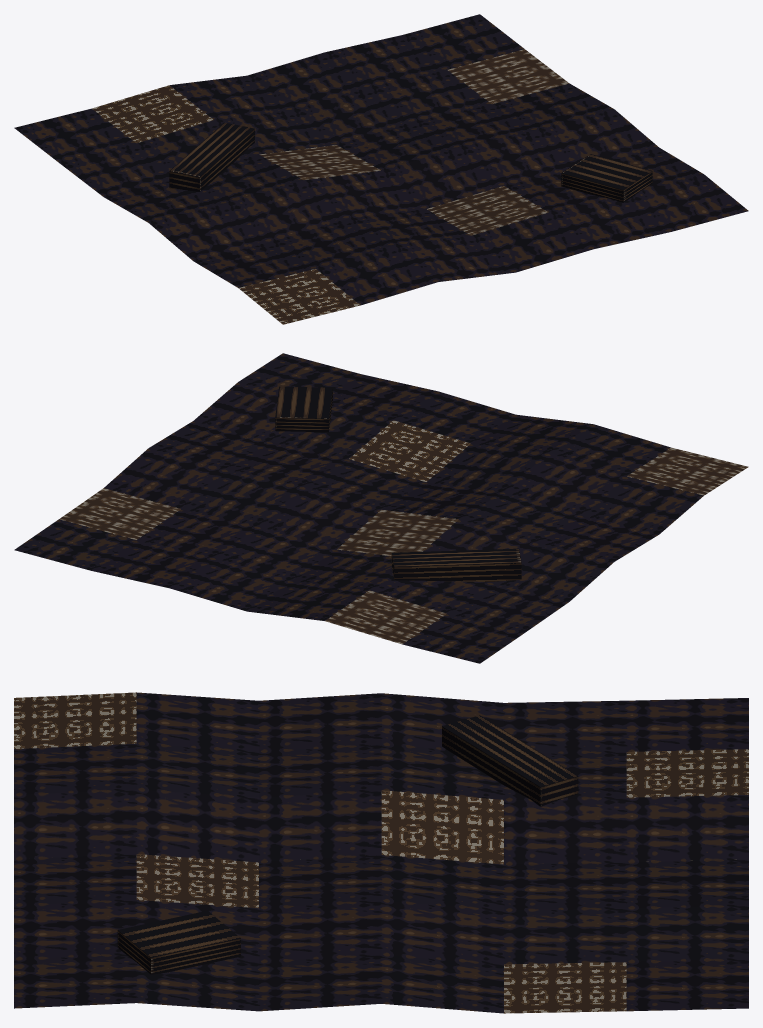
File: SUB-04_Sedimento_de_fondo.gltf
3 renders of one model, top to bottom at view 1: azimuth 30°, elevation 25°; view 2: azimuth 150°, elevation 25°; view 3: azimuth 270°, elevation 25°, orthographic. The views are drawn at different scales.
Parts seen in each view (by area): view 1: SUB-04_Sedimento_de_fondo-col; view 2: SUB-04_Sedimento_de_fondo-col; view 3: SUB-04_Sedimento_de_fondo-col.
Part boxes in pixels (left/top/right/bottom): SUB-04_Sedimento_de_fondo-col: left=14, top=14, right=748, bottom=324; SUB-04_Sedimento_de_fondo-col: left=14, top=353, right=748, bottom=663; SUB-04_Sedimento_de_fondo-col: left=14, top=692, right=748, bottom=1013.
Bounding box in the file's own units: 8 × 0.3824 × 8.
1 material, 1 textured.
